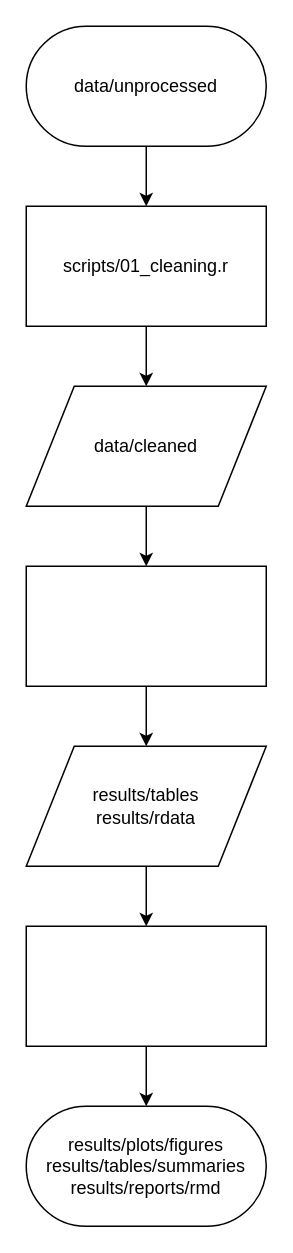
Image size: 293x1253. Some labels were removed from this diagram. The centre of each missing label's shape, as x and y in pixels:
"scripts/02_analysis.r" goes at pixel 145 625.
"scripts/03_reporting.r" goes at pixel 145 985.
